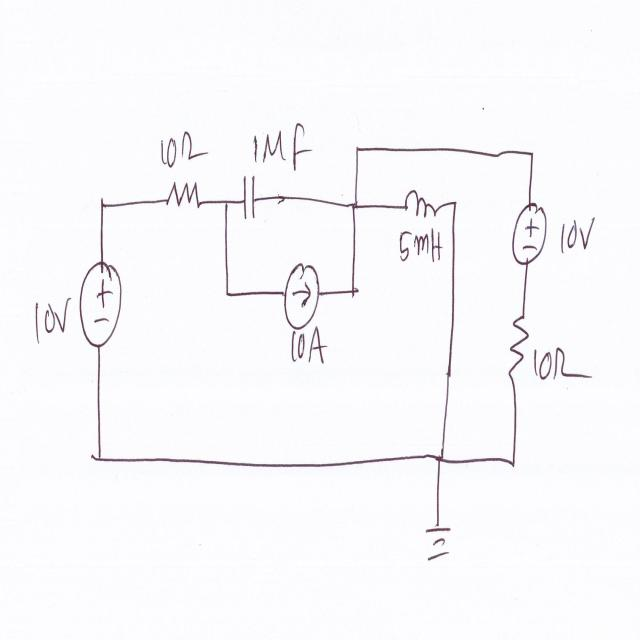capacitor: (241, 169, 259, 228)
current_source: (282, 260, 322, 333)
ground: (413, 521, 459, 570)
inductor: (399, 184, 443, 228)
resistor: (160, 176, 204, 218), (505, 311, 531, 379)
voltage_source: (76, 256, 126, 358), (509, 192, 548, 272)
